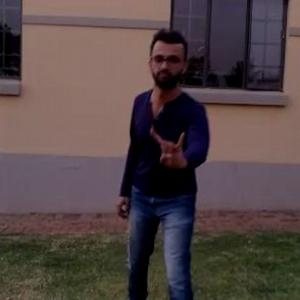takeoff-hand: (147, 120, 194, 172)
